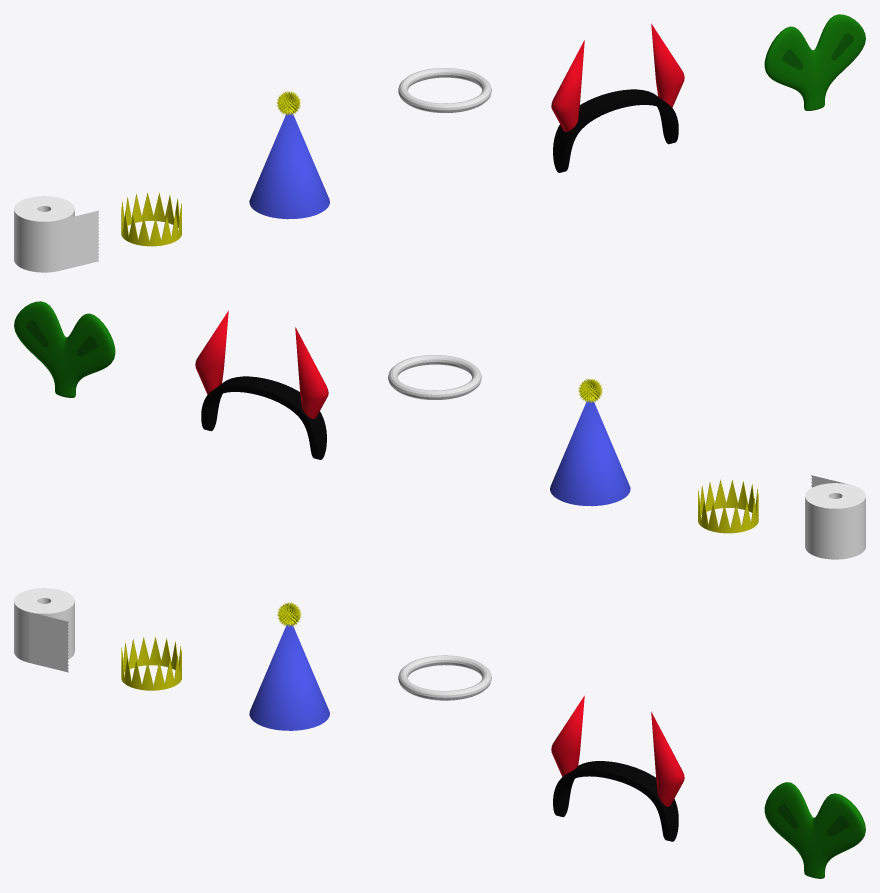
The model's file is Hat1.fbx.
3 renders of one model, top to bottom at view 1: azimuth 30°, elevation 25°; view 2: azimuth 150°, elevation 25°; view 3: azimuth 330°, elevation 25°, orthographic.
Visible parts, largest first — view 1: Cylinder, Cube, Cone, Cylinder.002, Plane, Cylinder.001, Torus; view 2: Cube, Cone, Cylinder, Cylinder.002, Plane, Cylinder.001, Torus; view 3: Cube, Cone, Cylinder, Cylinder.002, Plane, Cylinder.001, Torus.
Part boxes in pixels (bbox=[...]): Cylinder: bbox=[14, 196, 99, 272]; Cube: bbox=[764, 14, 865, 110]; Cone: bbox=[249, 113, 329, 219]; Cylinder.002: bbox=[551, 23, 684, 131]; Plane: bbox=[553, 89, 678, 172]; Cylinder.001: bbox=[121, 192, 181, 246]; Torus: bbox=[398, 68, 491, 112]; Cube: bbox=[14, 301, 115, 397]; Cone: bbox=[550, 400, 630, 506]; Cylinder: bbox=[805, 475, 865, 559]; Cylinder.002: bbox=[195, 310, 328, 418]; Plane: bbox=[201, 376, 326, 459]; Cylinder.001: bbox=[698, 479, 758, 533]; Torus: bbox=[388, 355, 481, 399]; Cube: bbox=[764, 782, 865, 878]; Cone: bbox=[249, 624, 329, 730]; Cylinder: bbox=[14, 588, 74, 672]; Cylinder.002: bbox=[551, 695, 684, 806]; Plane: bbox=[553, 761, 678, 841]; Cylinder.001: bbox=[121, 637, 181, 690]; Torus: bbox=[398, 655, 491, 700].
Size of the model in its own units: 3209 by 529 by 307.
